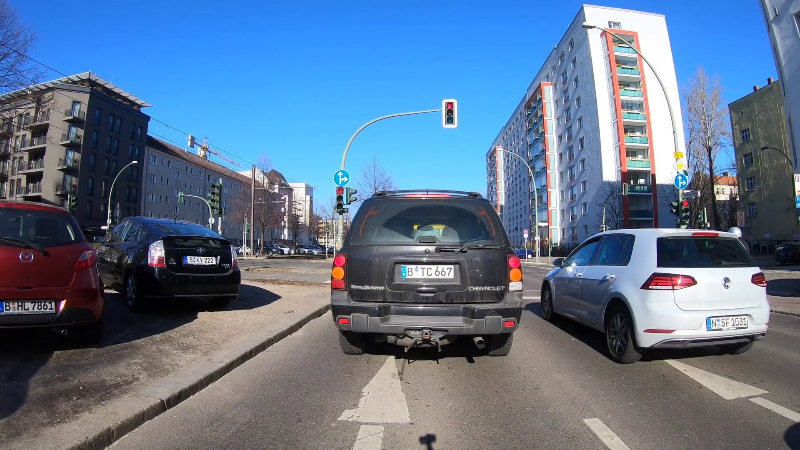Plate: (1, 297, 56, 315), (400, 264, 456, 280), (704, 314, 750, 331), (181, 255, 218, 267)
